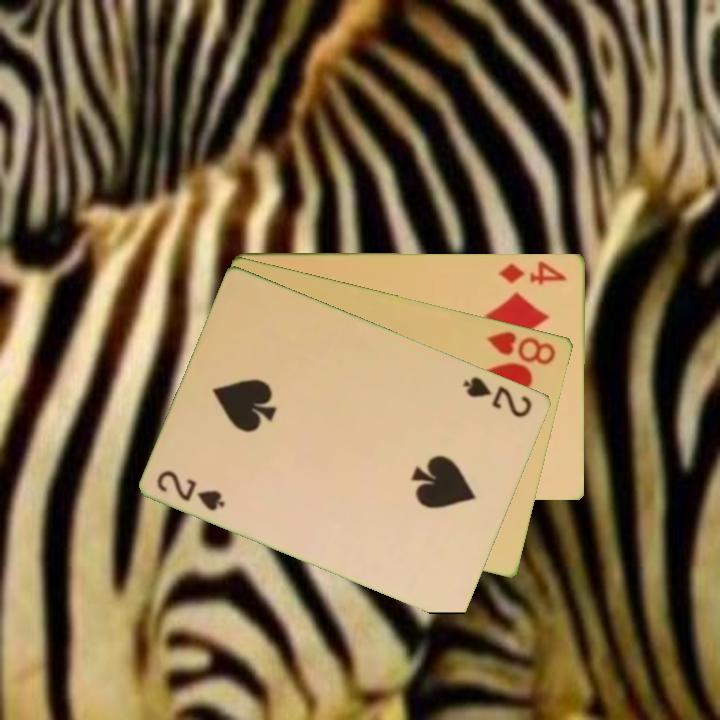2s: (459, 373, 536, 420), (154, 466, 229, 514)
4d: (495, 257, 569, 287)
8h: (484, 327, 559, 368)
